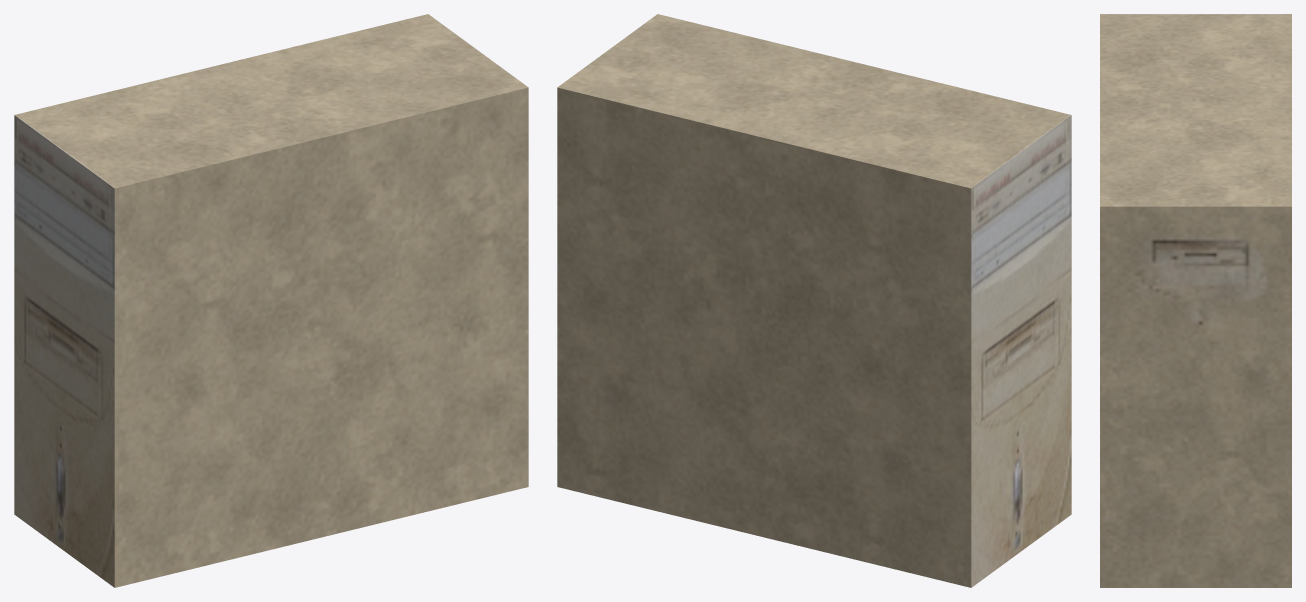
The model's file is compybox.glb.
3 renders of one model, left to right at view 1: azimuth 30°, elevation 25°; view 2: azimuth 150°, elevation 25°; view 3: azimuth 270°, elevation 25°, orthographic. The views are drawn at different scales.
Visible parts, largest first — view 1: Desktop; view 2: Desktop; view 3: Desktop.
Part boxes in pixels (<box>): Desktop: <box>14,14,528,587</box>; Desktop: <box>557,14,1071,587</box>; Desktop: <box>1100,14,1291,587</box>.
Size of the model in its own units: 0.7118 by 0.6562 by 0.2991.
Materials: 1 (1 with a texture image).
